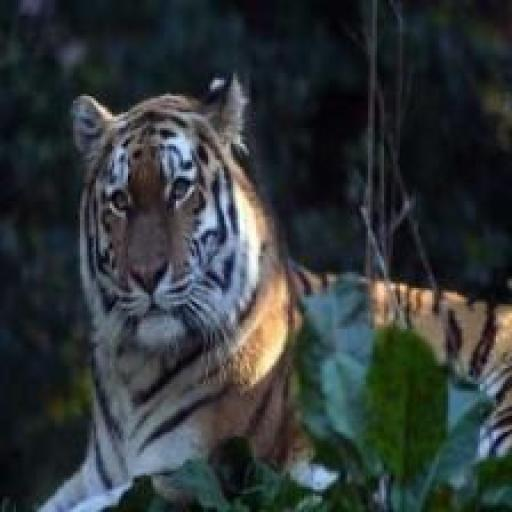Tiger: (36, 73, 512, 512)
